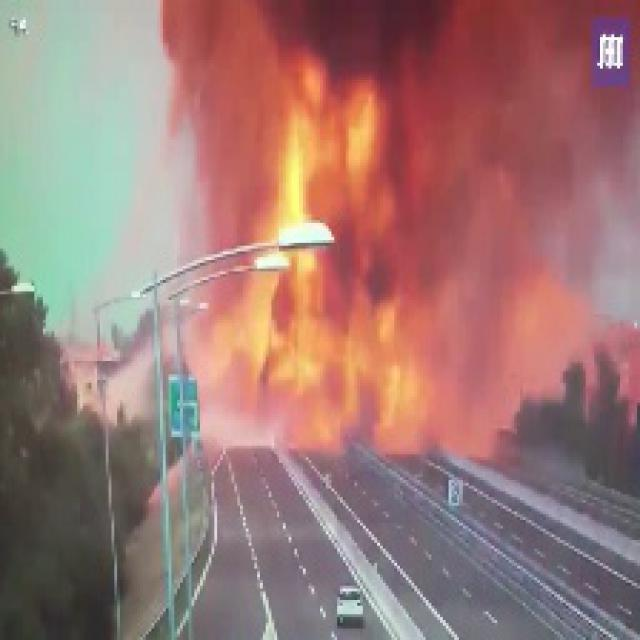fire: (194, 34, 426, 469)
